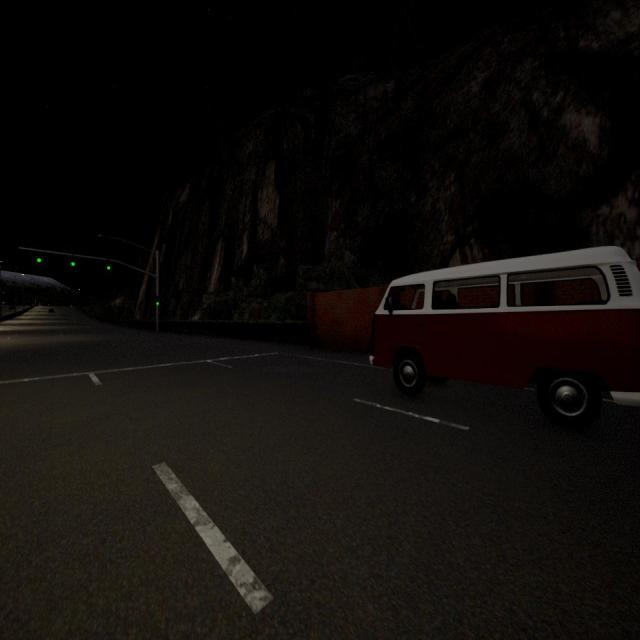Vehicle: (370, 246, 640, 428), (49, 308, 54, 313)
traffic_light: (36, 251, 42, 263), (71, 255, 75, 267), (106, 259, 110, 270), (156, 296, 159, 307)
